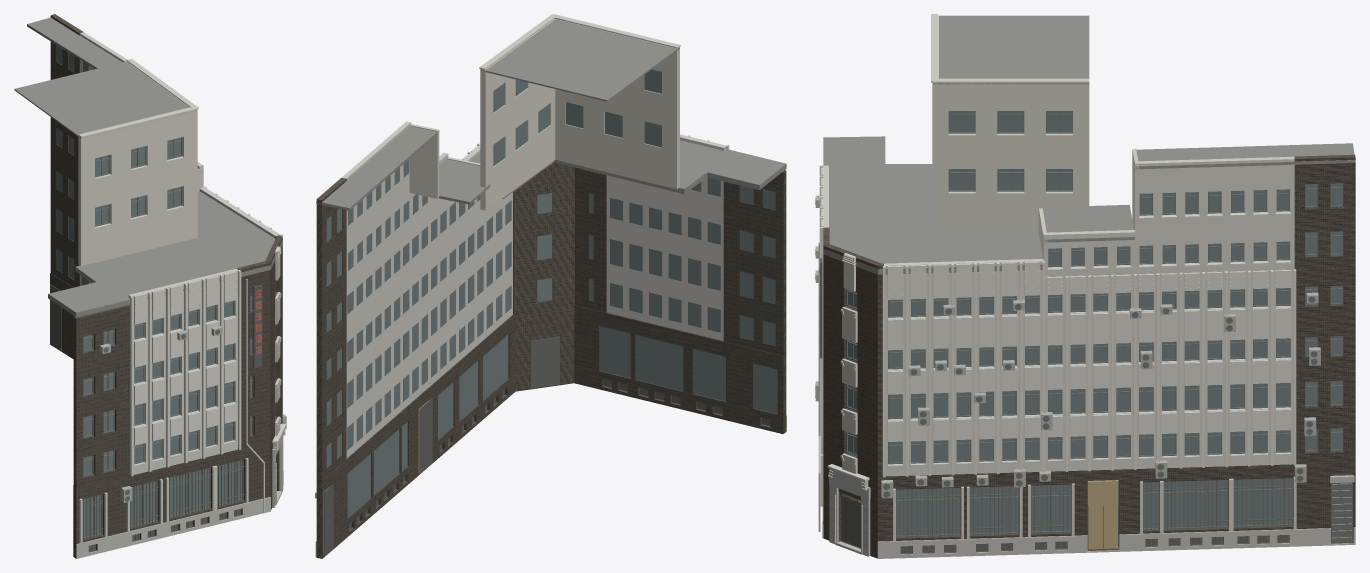
The model's file is huangpu-hengli-bank-henan-tianjin-corner-lod.glb.
The picture shows the model from 3 angles, left to right: view 1: azimuth 30°, elevation 25°; view 2: azimuth 150°, elevation 25°; view 3: azimuth 270°, elevation 25°; orthographic projection. The views are drawn at different scales.
Visible parts, largest first — view 1: 恒利银行河南中路天津路转角入口与竖窗立面; view 2: 恒利银行河南中路天津路转角入口与竖窗立面; view 3: 恒利银行河南中路天津路转角入口与竖窗立面.
Part boxes in pixels (box(x1,y1,x2,y2)): 恒利银行河南中路天津路转角入口与竖窗立面: box(14, 14, 286, 558); 恒利银行河南中路天津路转角入口与竖窗立面: box(315, 14, 786, 558); 恒利银行河南中路天津路转角入口与竖窗立面: box(815, 14, 1355, 558).
Size of the model in its own units: 19.29 by 29.24 by 32.37.
Materials: 13 (1 with a texture image).
